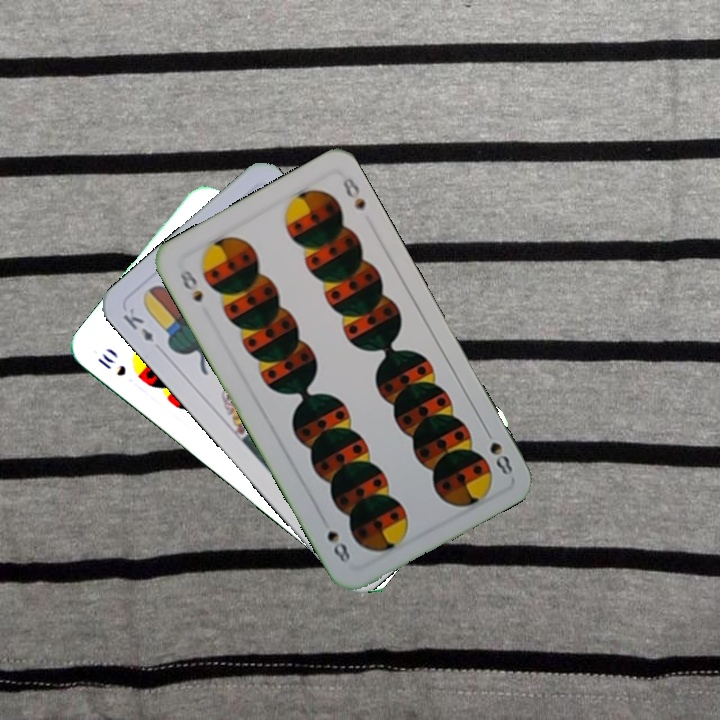EK: (119, 303, 157, 345)
S10: (93, 349, 129, 379)
S8: (479, 423, 516, 478), (175, 266, 206, 306)
